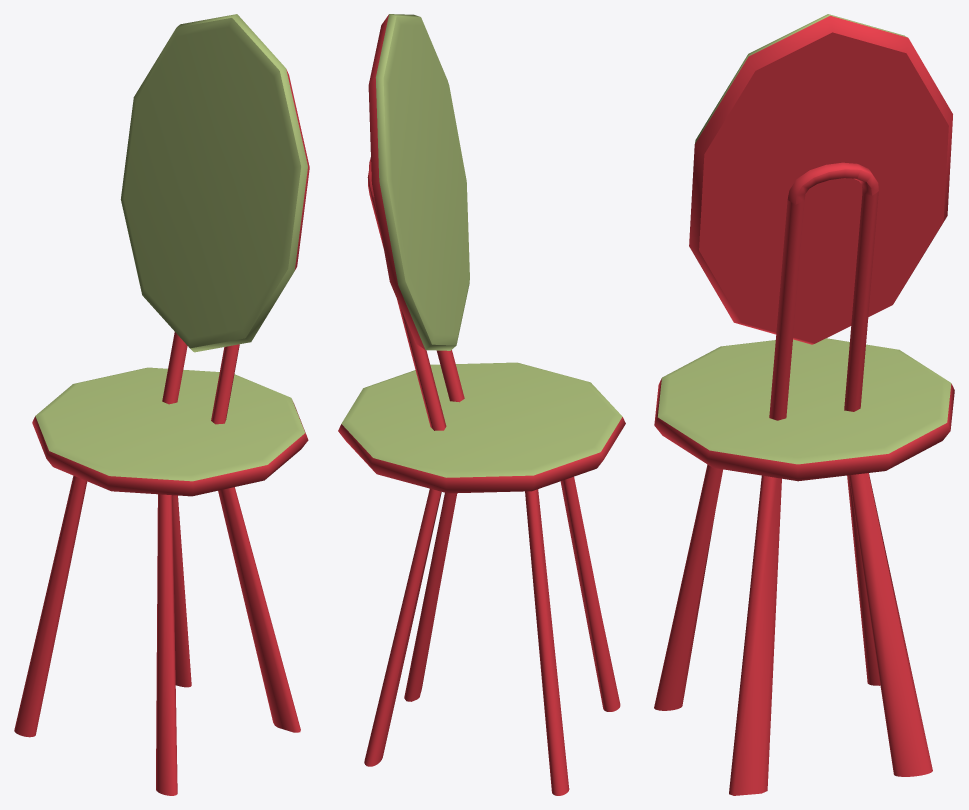
File: SM_Chaire3.fbx
3 views of the same model, side by side, from view 1: azimuth 30°, elevation 25°; view 2: azimuth 150°, elevation 25°; view 3: azimuth 270°, elevation 25° (orthographic). The views are drawn at different scales.
Parts seen in each view (by area): view 1: SM_Chaire3; view 2: SM_Chaire3; view 3: SM_Chaire3.
Boxes of the visible parts, x1,y1,x2,y2 form: SM_Chaire3: (14, 14, 309, 795); SM_Chaire3: (338, 14, 625, 795); SM_Chaire3: (654, 14, 954, 795).
Bounding box in the file's own units: 41.46 × 113 × 40.02.
